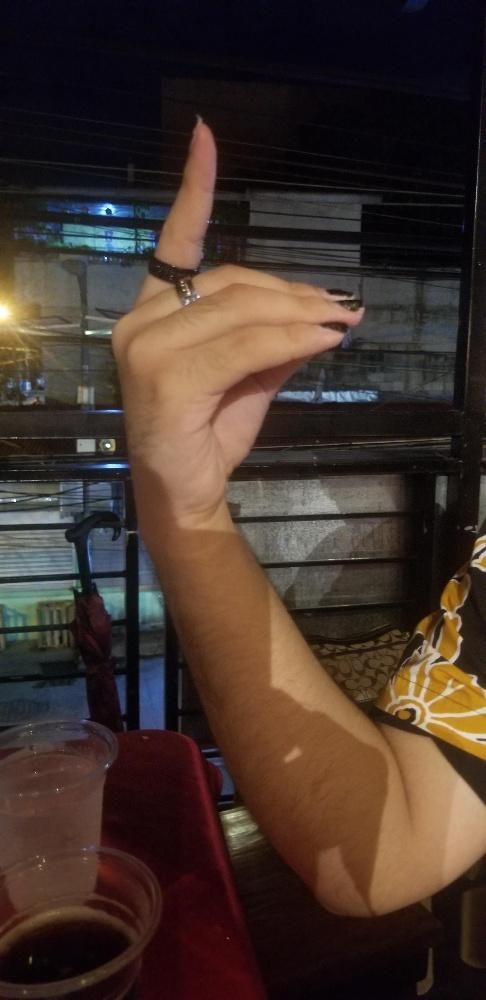d: (103, 111, 366, 545)
